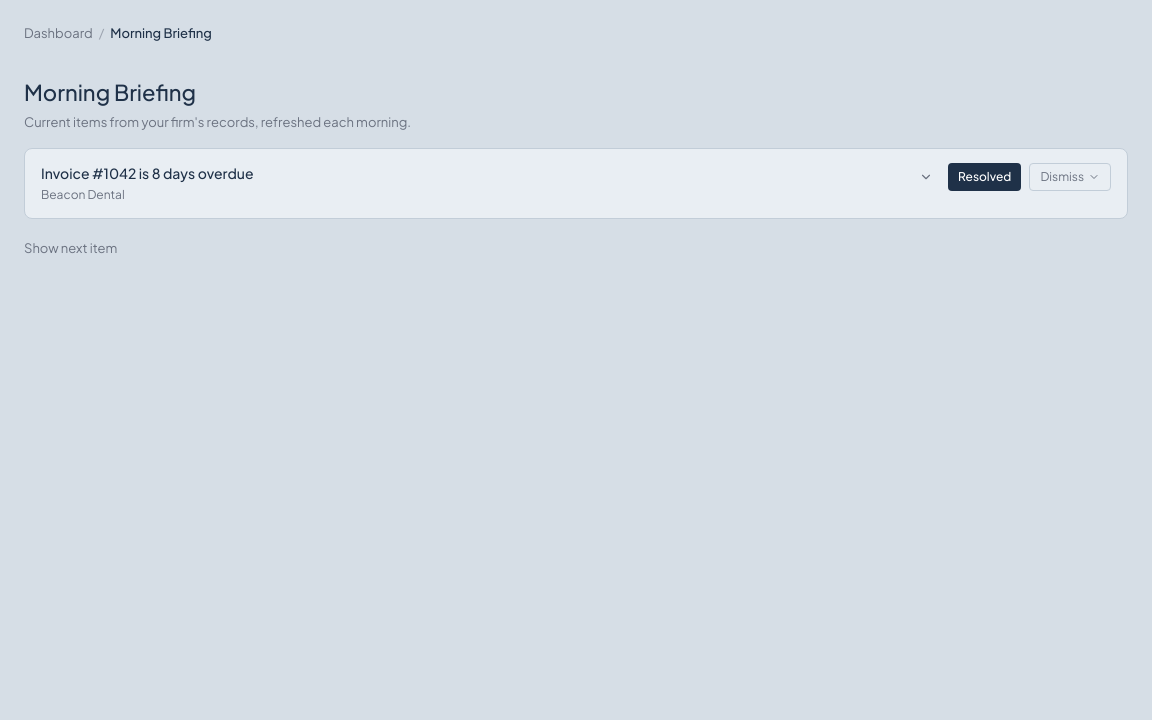
Test: Per-row expand/collapse with real ten-field detail panel › collapsing a row hides its detail panel
This screenshot has width=1152, height=720.
Check: the link "Invoice #1042 is 8 days overdue" is shown, box x1=41 y1=164 x2=254 y2=182
Click the button named "expand detail": (926, 177) x1=912 y1=163 x2=940 y2=191
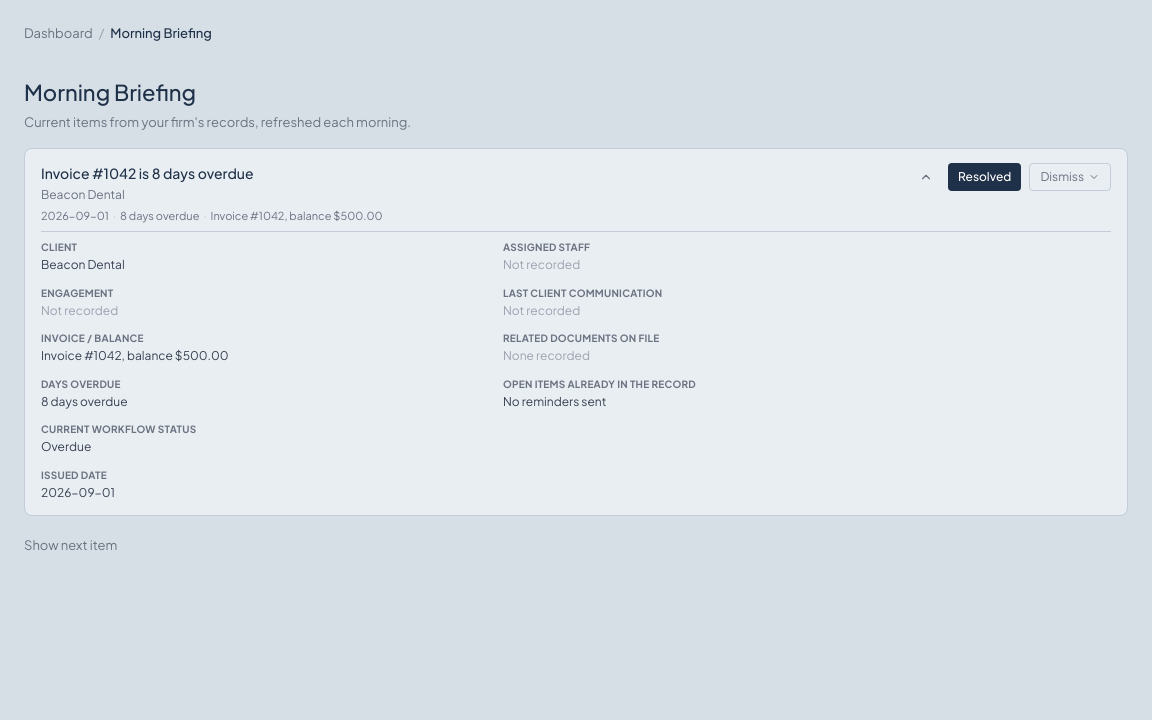
Click the button named "collapse detail": (926, 177) x1=912 y1=163 x2=940 y2=191
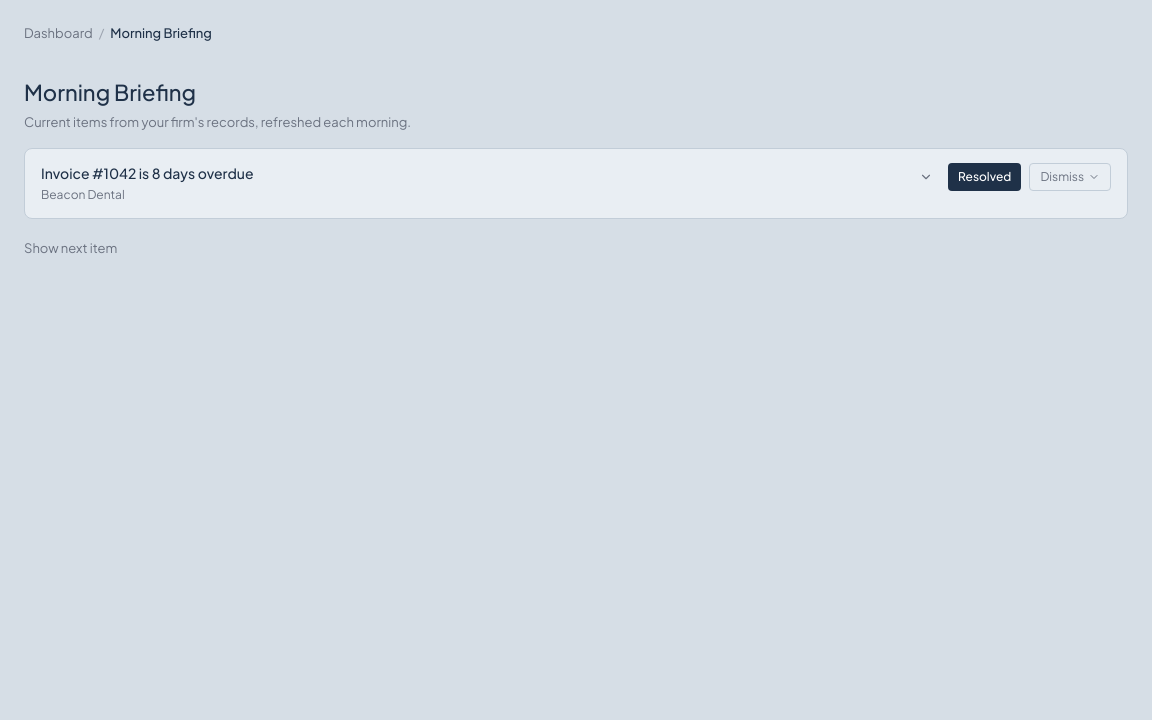
Check: the text "Invoice #1042, balance $500.00" is gone
